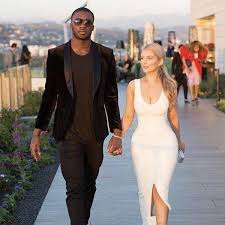white_female: (135, 44, 162, 75)
